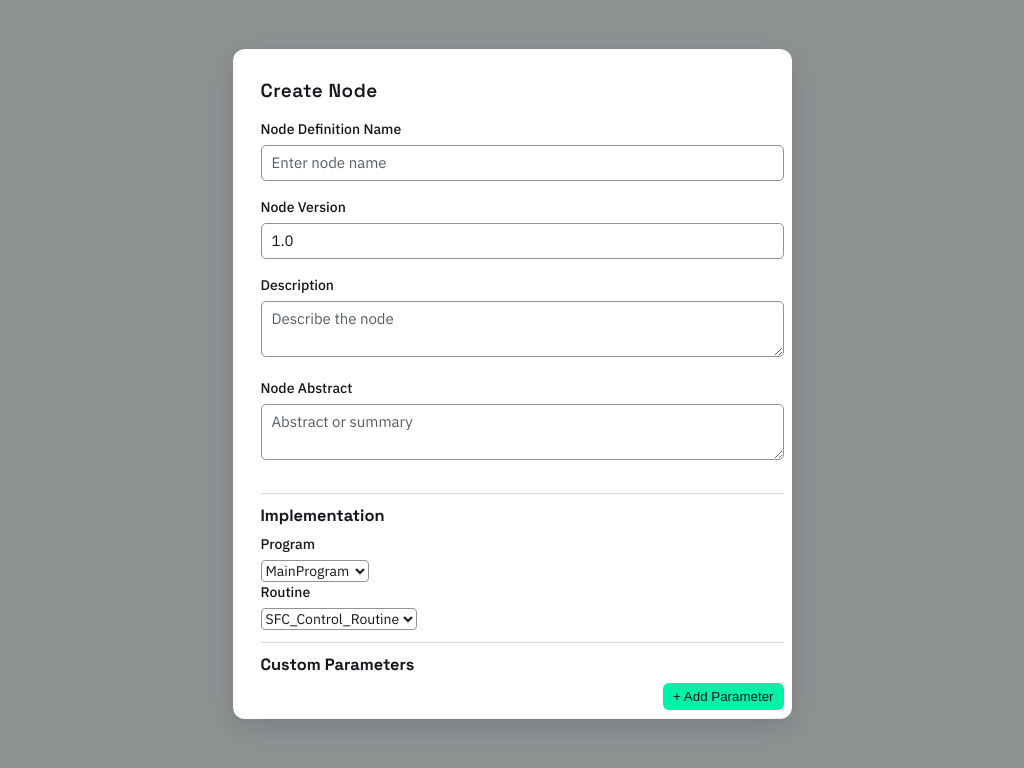
Test case: CreateNodeModal (edit mode) › negative › creating still requires description and abstract
The image size is (1024, 768).
Type "New" into the field with placeholder "Enter node name" at coordinates (522, 163), box [260,145,784,181]
(page scrolled)
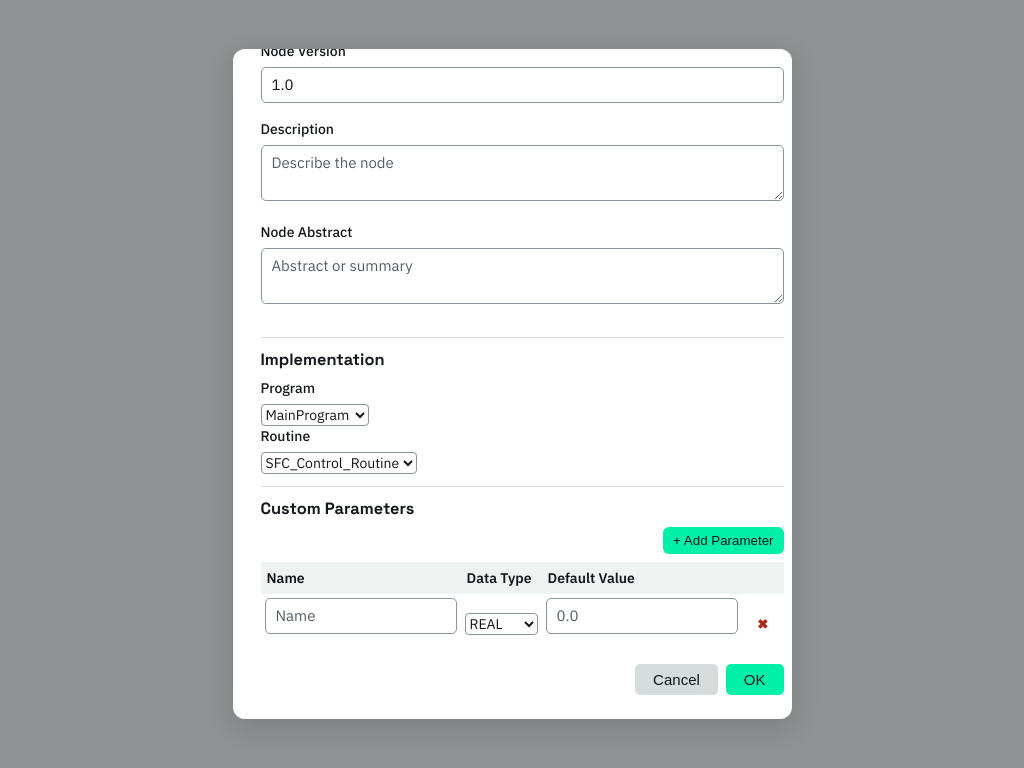
Click the button titled "Delete" at coordinates (762, 624), box [751,616,774,633]
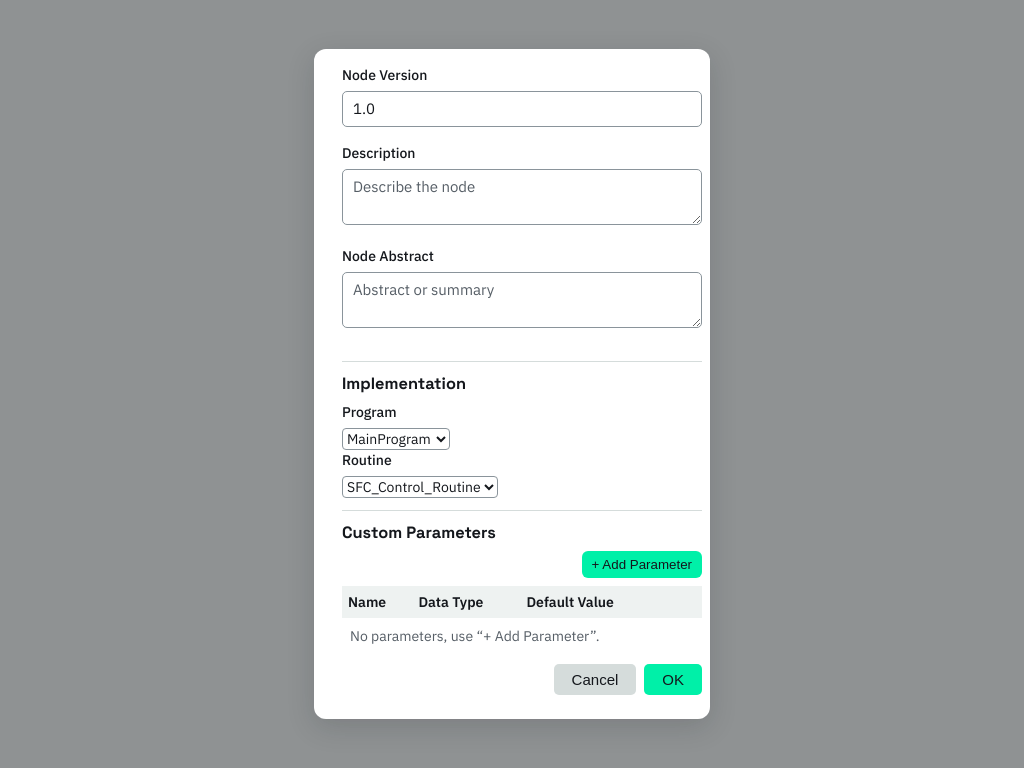
Click the button "OK" at coordinates (673, 679), box [644,664,702,695]
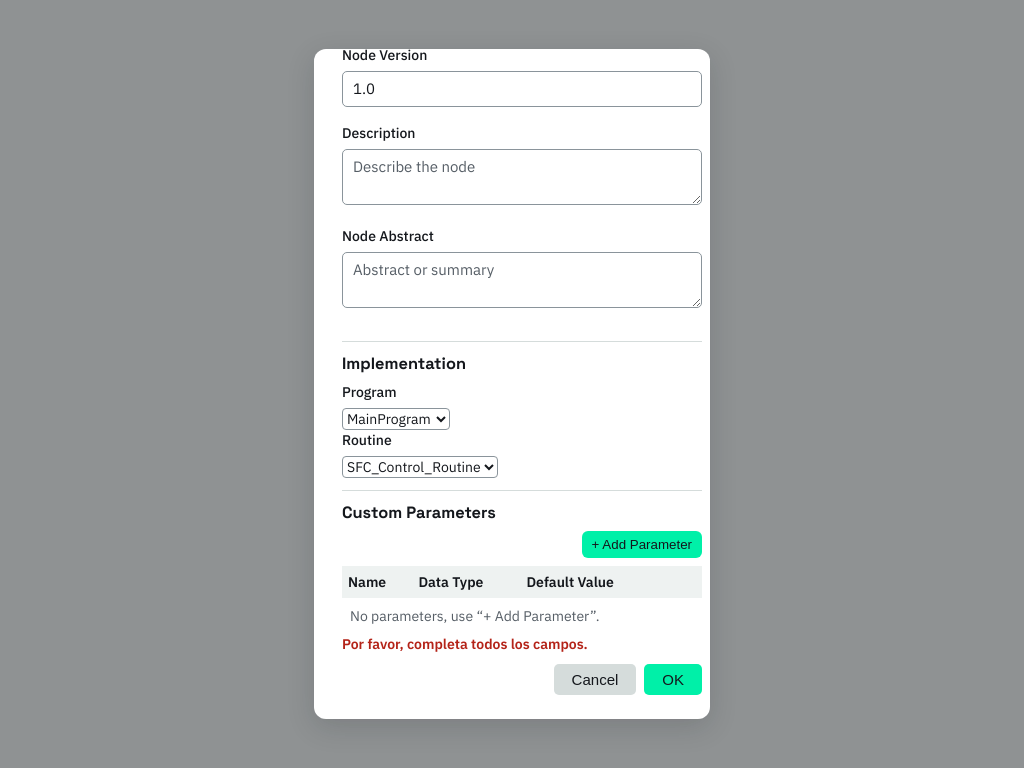
expect the text "Por favor, completa todos los campos." is shown: met, box [342,635,588,653]
